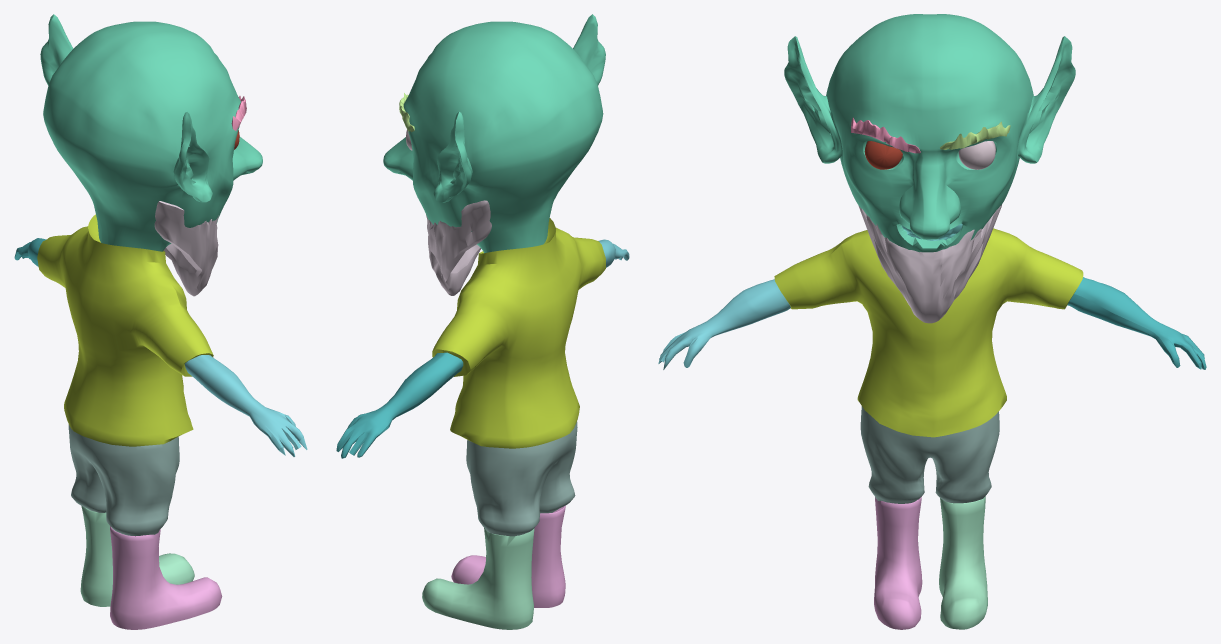
3 renders of one model, left to right at view 1: azimuth 30°, elevation 25°; view 2: azimuth 150°, elevation 25°; view 3: azimuth 270°, elevation 25°, orthographic.
Visible parts, largest first — view 1: defaultMaterial.006, defaultMaterial.001, defaultMaterial.003, defaultMaterial.002, defaultMaterial.005, split_parent_0, defaultMaterial.2294, split_parent_11; view 2: defaultMaterial.006, defaultMaterial.001, defaultMaterial.003, defaultMaterial.2294, split_parent_11, split_parent_0, defaultMaterial.002, defaultMaterial.005; view 3: defaultMaterial.006, defaultMaterial.001, defaultMaterial.003, split_parent_0, defaultMaterial.2294, defaultMaterial.002, split_parent_11, defaultMaterial.005, split_parent_4, defaultMaterial.007, defaultMaterial.11476, split_parent_10.
Part boxes in pixels (x1,y1,x2,y2): defaultMaterial.006: (40,14,262,251); defaultMaterial.001: (37,214,213,446); defaultMaterial.003: (68,424,179,536); defaultMaterial.002: (110,526,222,629); defaultMaterial.005: (184,355,307,456); split_parent_0: (154,201,218,296); defaultMaterial.2294: (80,506,194,606); split_parent_11: (14,238,46,266); defaultMaterial.006: (383,14,605,253); defaultMaterial.001: (432,218,605,448); defaultMaterial.003: (466,422,577,536); defaultMaterial.2294: (422,528,534,629); split_parent_11: (336,352,463,458); split_parent_0: (426,200,491,295); defaultMaterial.002: (451,505,565,607); defaultMaterial.005: (598,239,629,267); defaultMaterial.006: (784,14,1075,252); defaultMaterial.001: (774,228,1083,437); defaultMaterial.003: (860,406,999,503); split_parent_0: (858,205,1001,323); defaultMaterial.2294: (939,496,987,629); defaultMaterial.002: (874,496,922,629); split_parent_11: (1067,277,1206,369); defaultMaterial.005: (658,279,790,369); split_parent_4: (851,117,920,153); defaultMaterial.007: (958,141,995,169); defaultMaterial.11476: (864,141,902,169); split_parent_10: (940,121,1010,149).
Size of the model in its own units: 0.3645 by 1 by 0.856.
